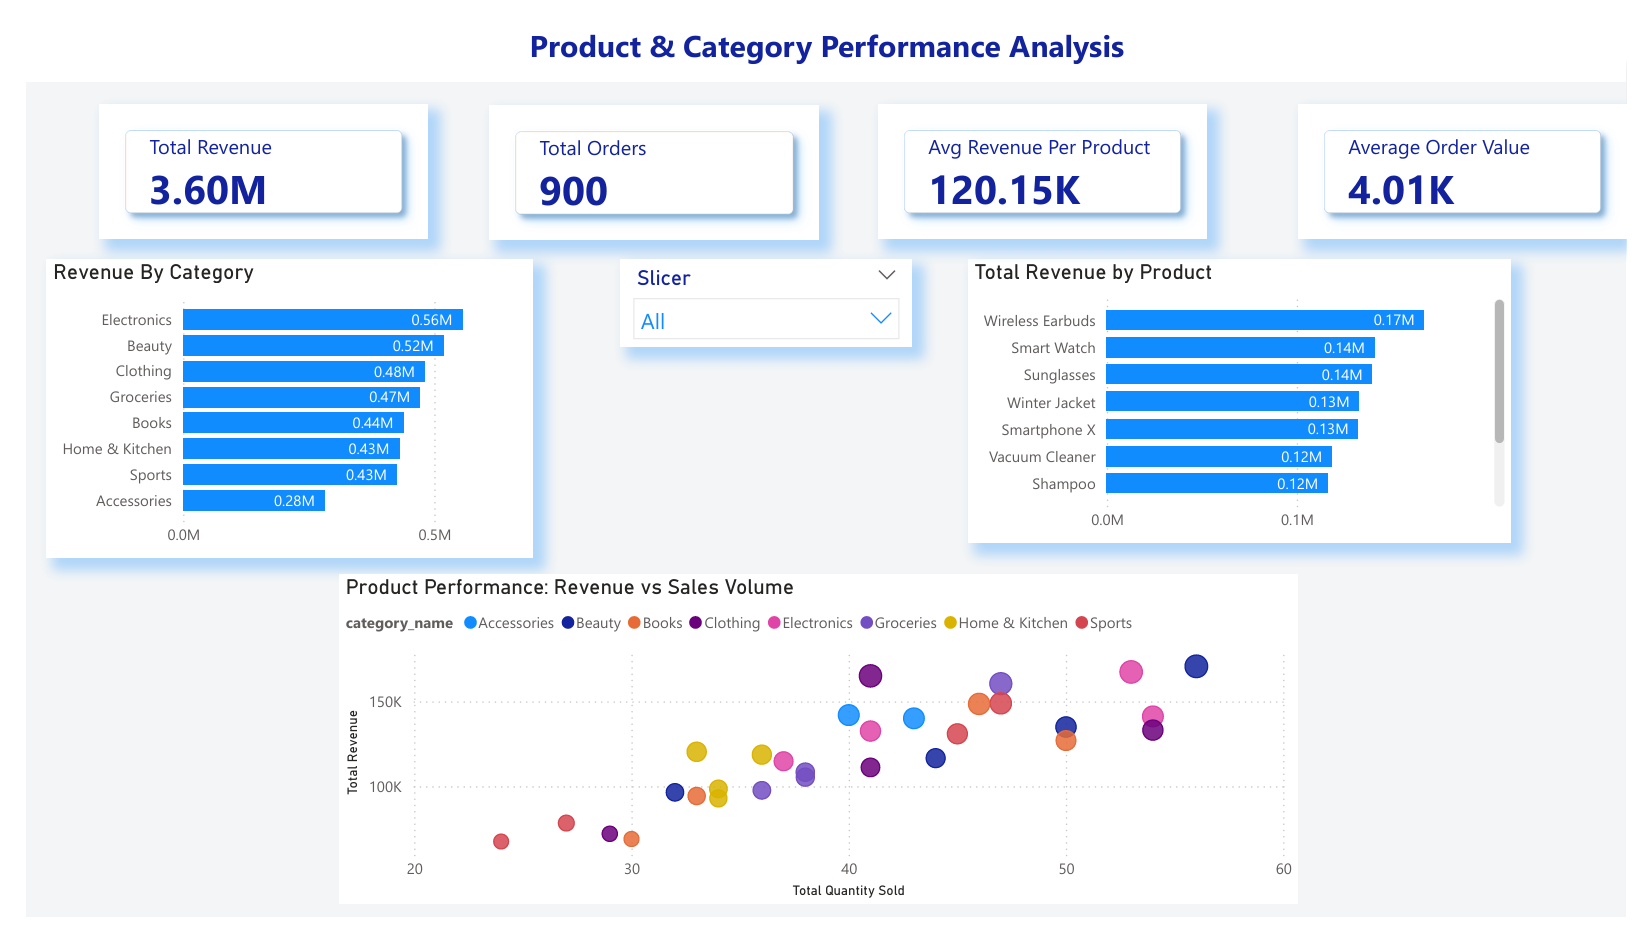

The page's visual inventory and layout, read from the dashboard file:
{"tool":"powerbi","page":{"name":"Page 3","canvas":[1280,720],"ordinal":2},"visuals":[{"type":"textbox","box":[0,0,1280.3,52.1],"z":0},{"type":"cardVisual","fields":{"Data":["order_items.Total Revenue"]},"box":[57.6,68.6,263.5,108.4],"z":1},{"type":"cardVisual","fields":{"Data":["order_items.Total Orders"]},"box":[370.5,70,263.5,108.4],"z":2},{"type":"cardVisual","fields":{"Data":["order_items.Average Order Value"]},"box":[1016.8,68.6,263.5,108.4],"z":3},{"type":"clusteredBarChart","title":"Revenue By Category","fields":{"Category":["categories.category_name"],"Y":["order_items.Total Revenue"]},"box":[16.5,193.5,388.3,238.8],"z":4},{"type":"clusteredBarChart","title":"Total Revenue by Product","fields":{"Category":["products.product_name"],"Y":["order_items.Total Revenue"]},"box":[753.3,193.5,433.6,226.4],"z":5},{"type":"scatterChart","title":"Product Performance: Revenue vs Sales Volume","fields":{"X":["Sum(order_items.quantity)"],"Y":["order_items.Total Revenue"],"Series":["categories.category_name"],"Category":["products.product_name"],"Size":["order_items.Total Revenue"]},"box":[249.7,444.6,767.1,264.8],"z":6},{"type":"cardVisual","fields":{"Data":["products.Avg Revenue Per Product"]},"box":[680.6,68.6,263.5,108.4],"z":7},{"type":"slicer","fields":{"Values":["categories.category_name"]},"box":[474.8,193.5,233.3,70],"z":8}]}

Visuals, with their boxes in screenshot pixels (x1, y1, x2, y2), scaled from the page's 1280x720 canvas onto the 1652x934 screenshot:
textbox: <region>0, 0, 1651, 68</region>
cardVisual - order_items.Total Revenue: <region>74, 89, 414, 230</region>
cardVisual - order_items.Total Orders: <region>478, 91, 818, 231</region>
cardVisual - order_items.Average Order Value: <region>1312, 89, 1651, 230</region>
"Revenue By Category" clusteredBarChart: <region>21, 251, 522, 561</region>
"Total Revenue by Product" clusteredBarChart: <region>972, 251, 1532, 545</region>
"Product Performance: Revenue vs Sales Volume" scatterChart: <region>322, 577, 1312, 920</region>
cardVisual - products.Avg Revenue Per Product: <region>878, 89, 1218, 230</region>
slicer - categories.category_name: <region>613, 251, 914, 342</region>
